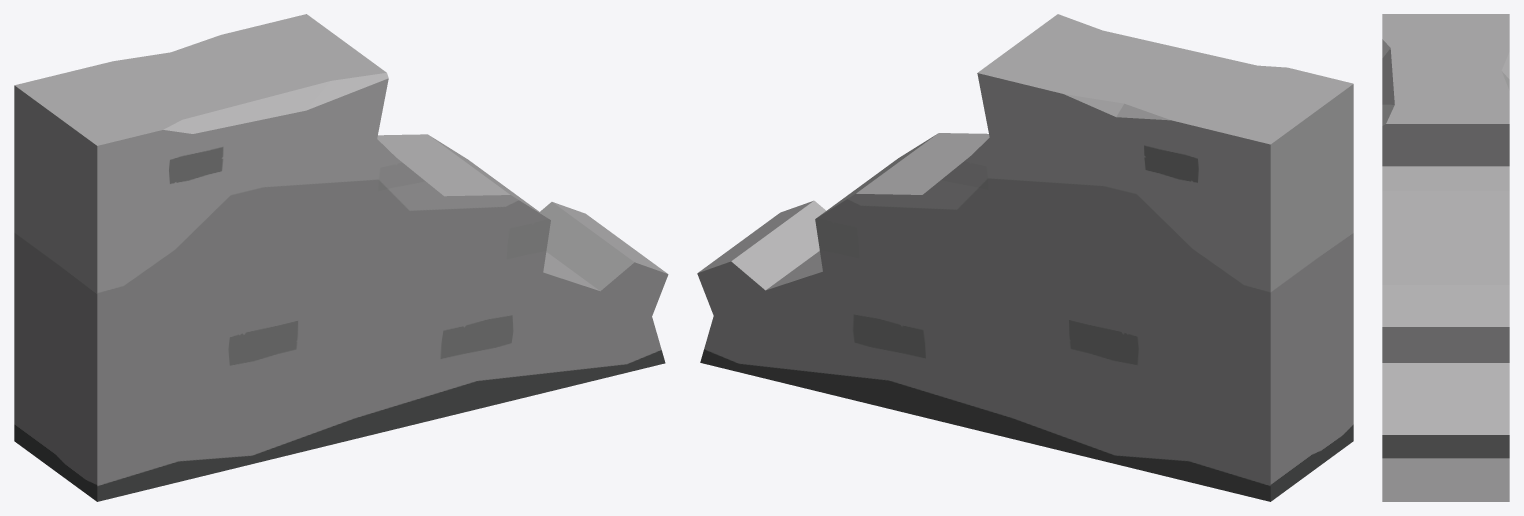
Rendered from Wh_Brick_Fence_Damaged_01.fbx.
3 views of the same model, side by side, from view 1: azimuth 30°, elevation 25°; view 2: azimuth 150°, elevation 25°; view 3: azimuth 270°, elevation 25° (orthographic). The views are drawn at different scales.
Parts seen in each view (by area): view 1: Cube.009; view 2: Cube.009; view 3: Cube.009.
Boxes of the visible parts, box(x1,y1,x2,y2) form: Cube.009: box(14, 14, 668, 501); Cube.009: box(697, 14, 1353, 501); Cube.009: box(1382, 14, 1509, 501).
Bounding box in the file's own units: 210 × 125 × 52.71.
